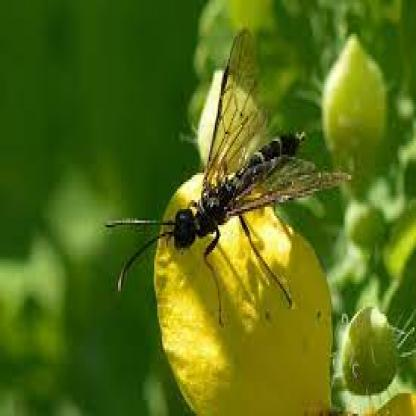sawfly: (108, 33, 353, 311)
